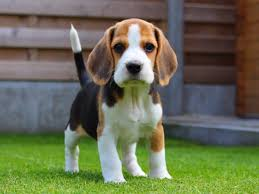dog: (50, 16, 183, 180)
